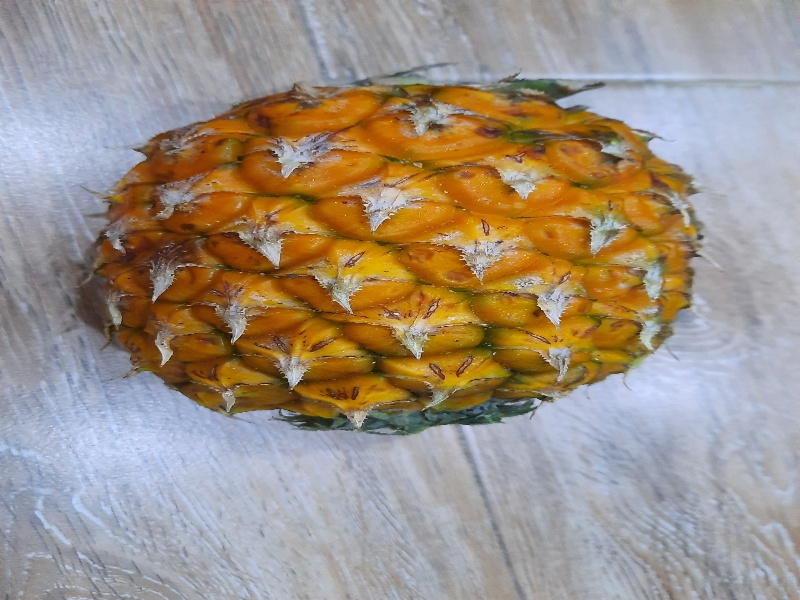fruit: (78, 72, 710, 444)
